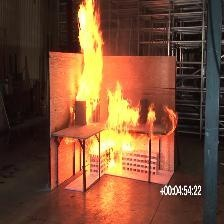fire: (56, 0, 178, 179)
